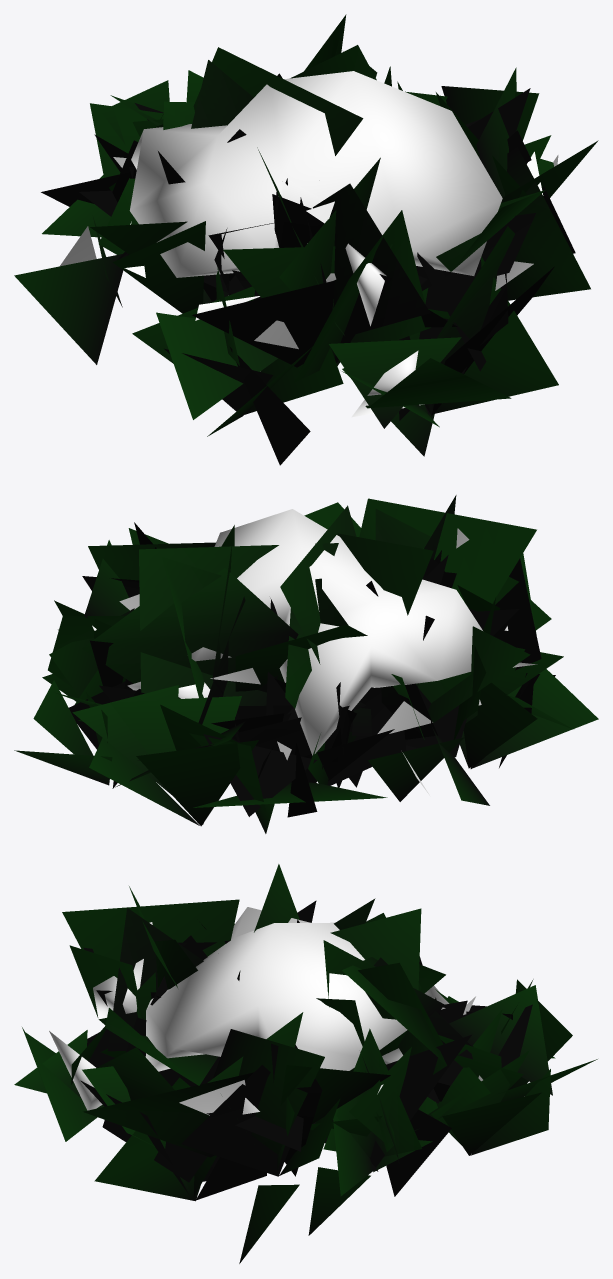
The model's file is SnowBushClumpBRHE_LOD3.fbx.
The picture shows the model from 3 angles, top to bottom: view 1: azimuth 30°, elevation 25°; view 2: azimuth 150°, elevation 25°; view 3: azimuth 270°, elevation 25°; orthographic projection. The views are drawn at different scales.
Visible parts, largest first — view 1: SnowBushClumpBRHE_LOD3; view 2: SnowBushClumpBRHE_LOD3; view 3: SnowBushClumpBRHE_LOD3.
Boxes of the visible parts, box(x1,y1,x2,y2) form: SnowBushClumpBRHE_LOD3: box(14, 14, 598, 465); SnowBushClumpBRHE_LOD3: box(14, 495, 598, 833); SnowBushClumpBRHE_LOD3: box(14, 864, 597, 1263).
Size of the model in its own units: 4.4 by 3.25 by 5.36.
